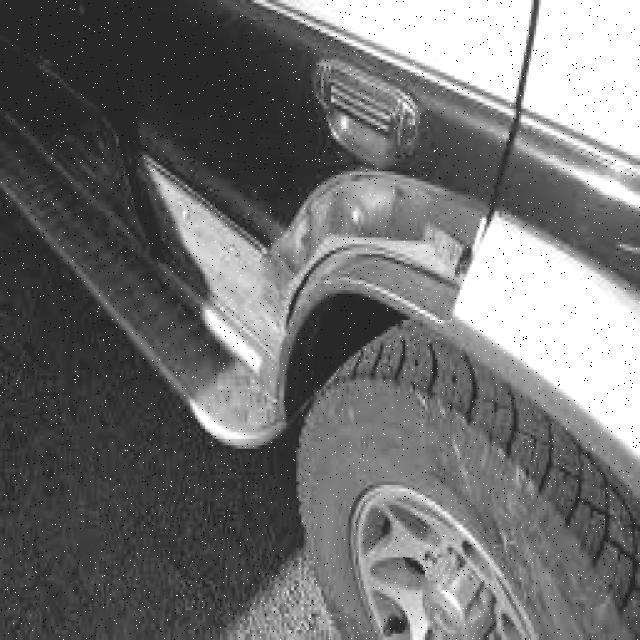car damage: (62, 128, 512, 407)
